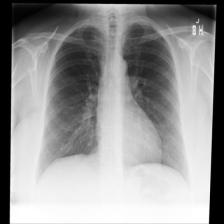normal: (36, 15, 191, 183)
